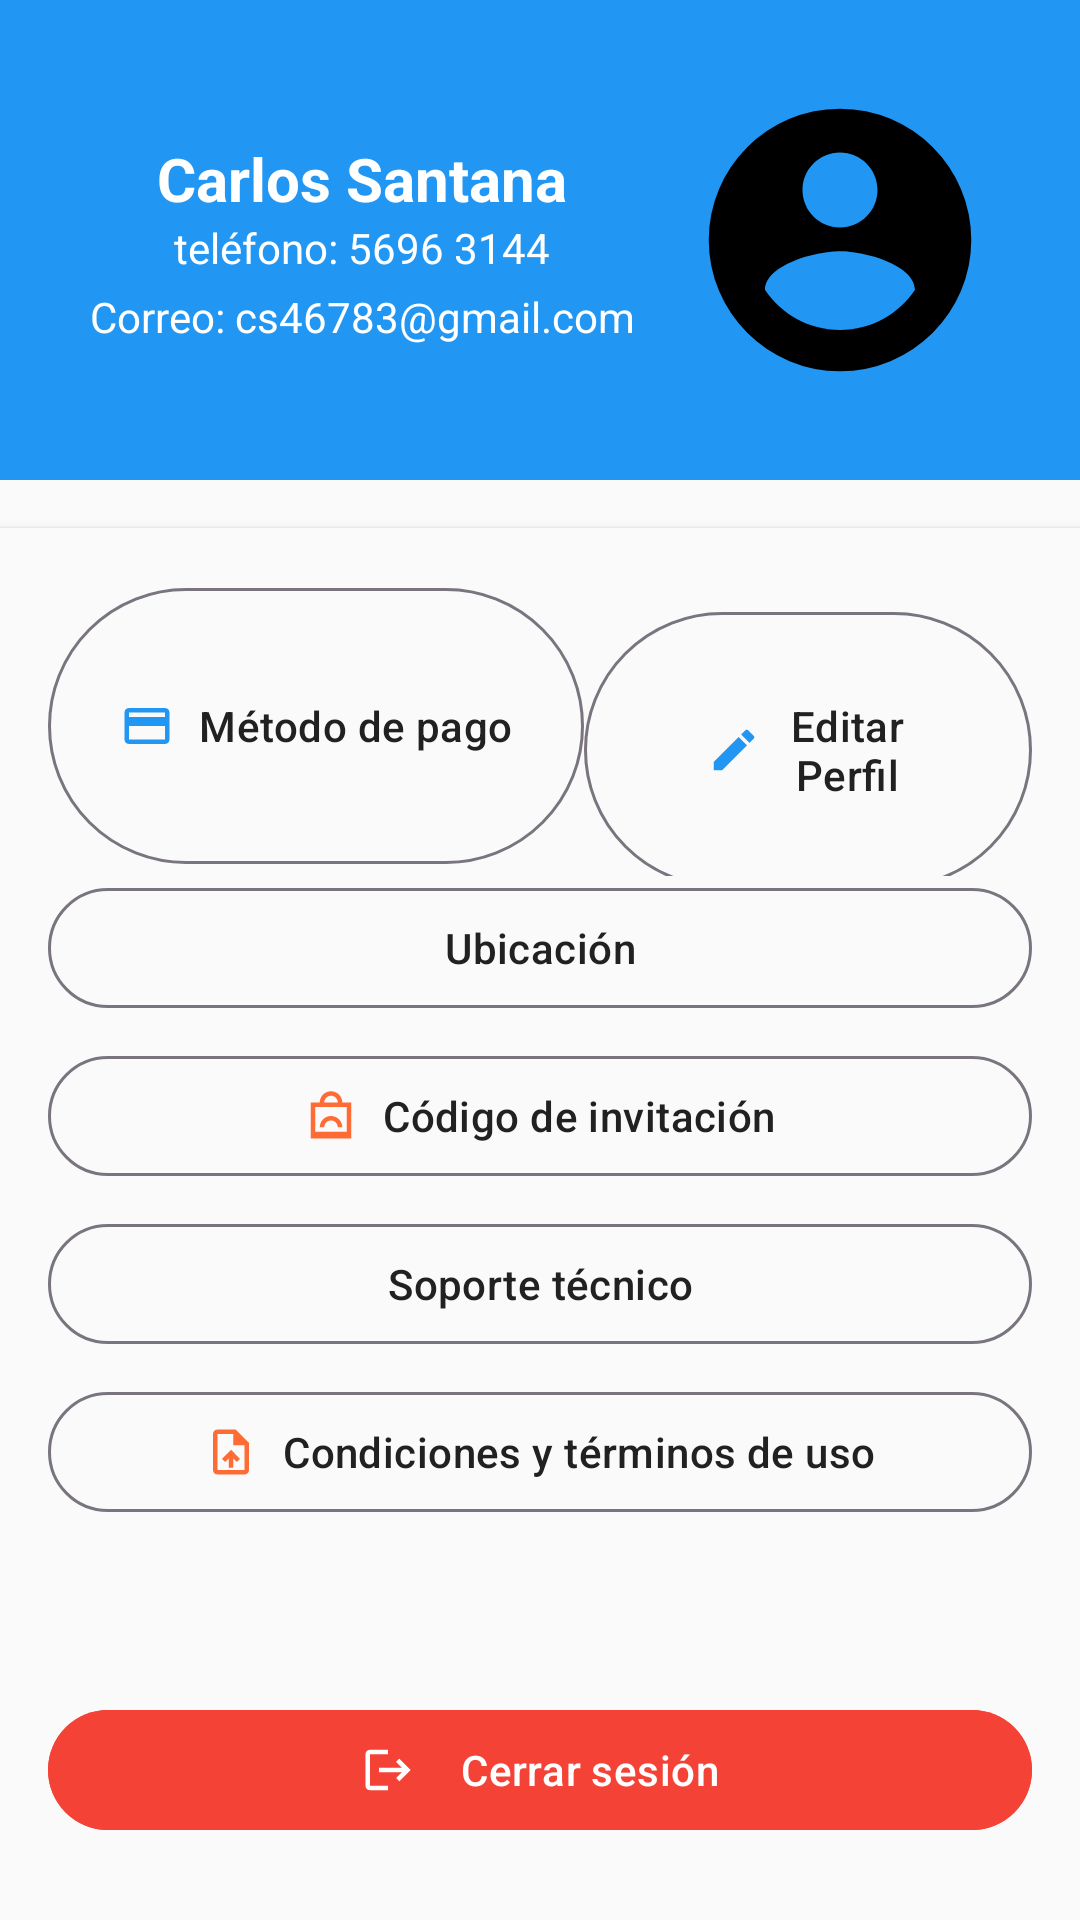

Icons on this 1080 × 1920 Android screen, each with its box as [left=x1, top=y1, right=x2, bottom=y2]:
Foto de perfil: [left=708, top=108, right=972, bottom=372]
